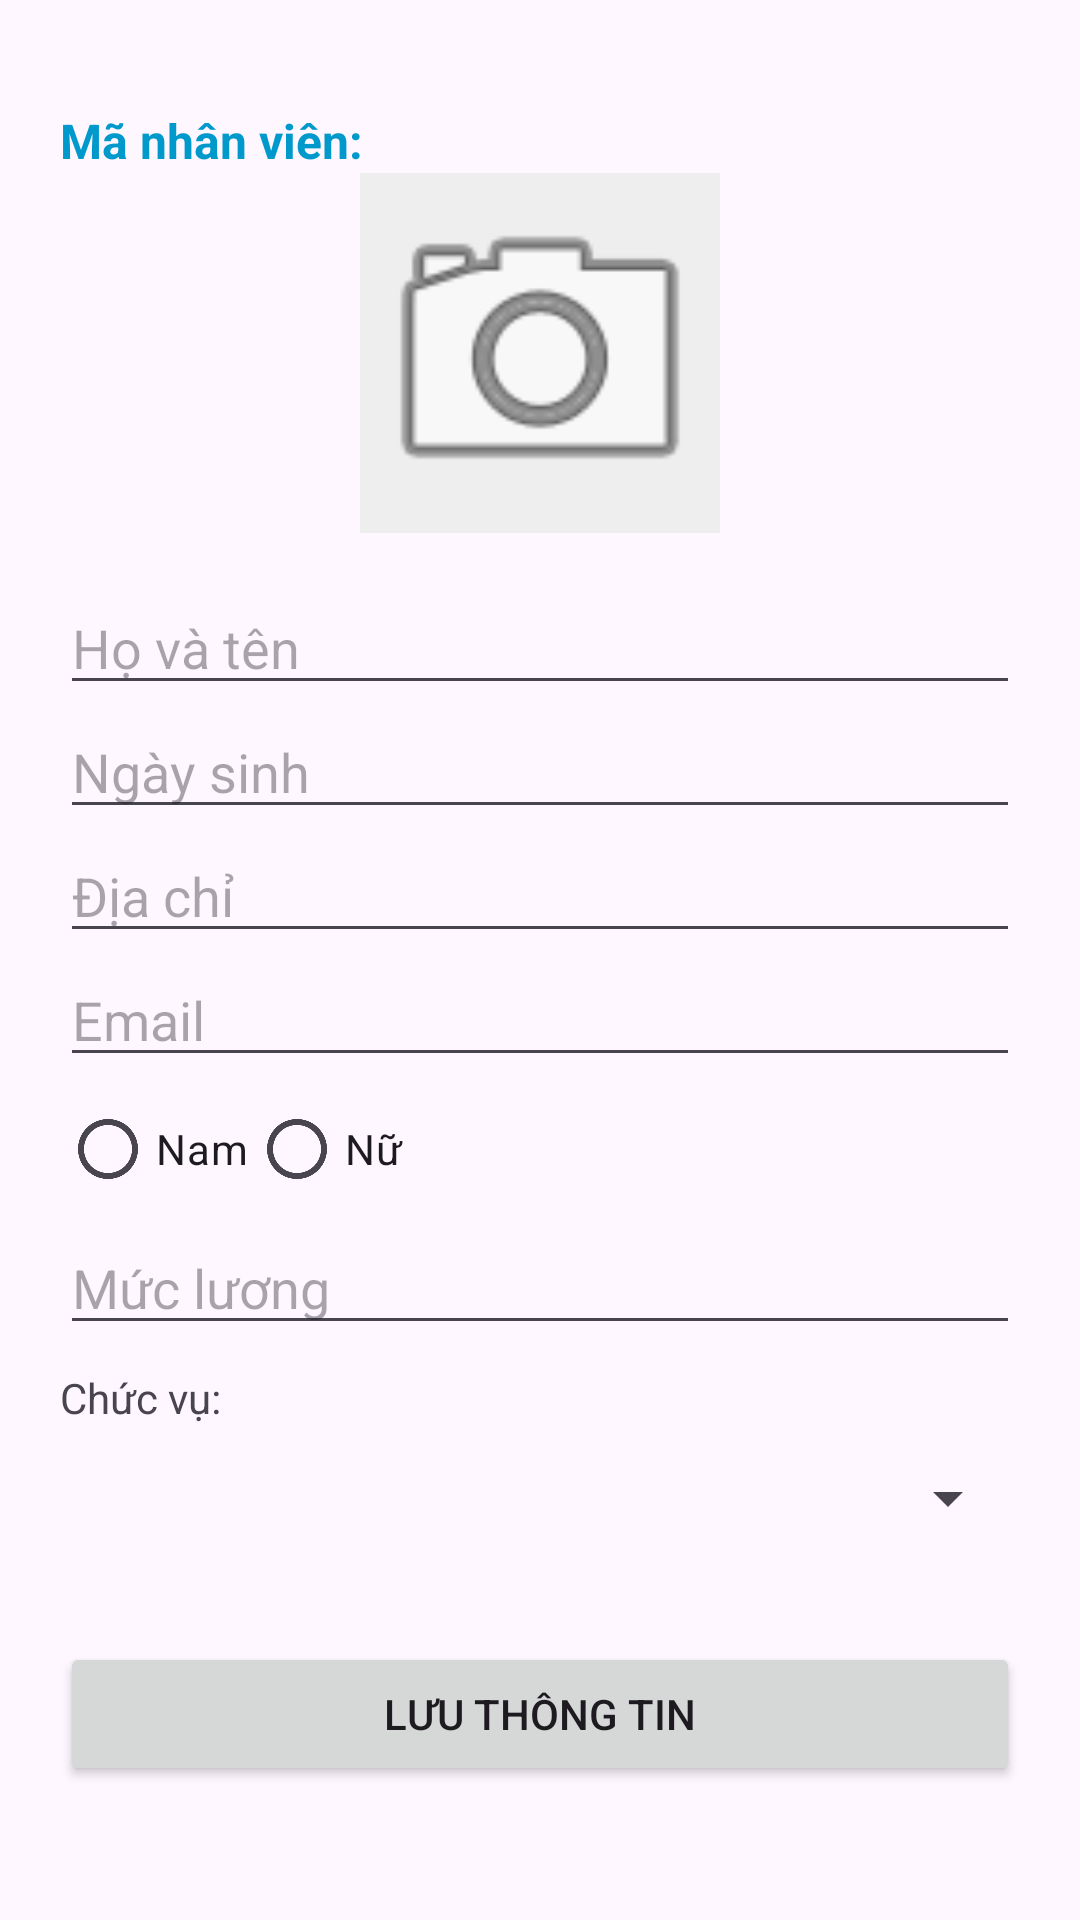

Icons on this 1080×1920 Android screen, each with the point to tap as point (x, y):
camera: point (540, 353)
